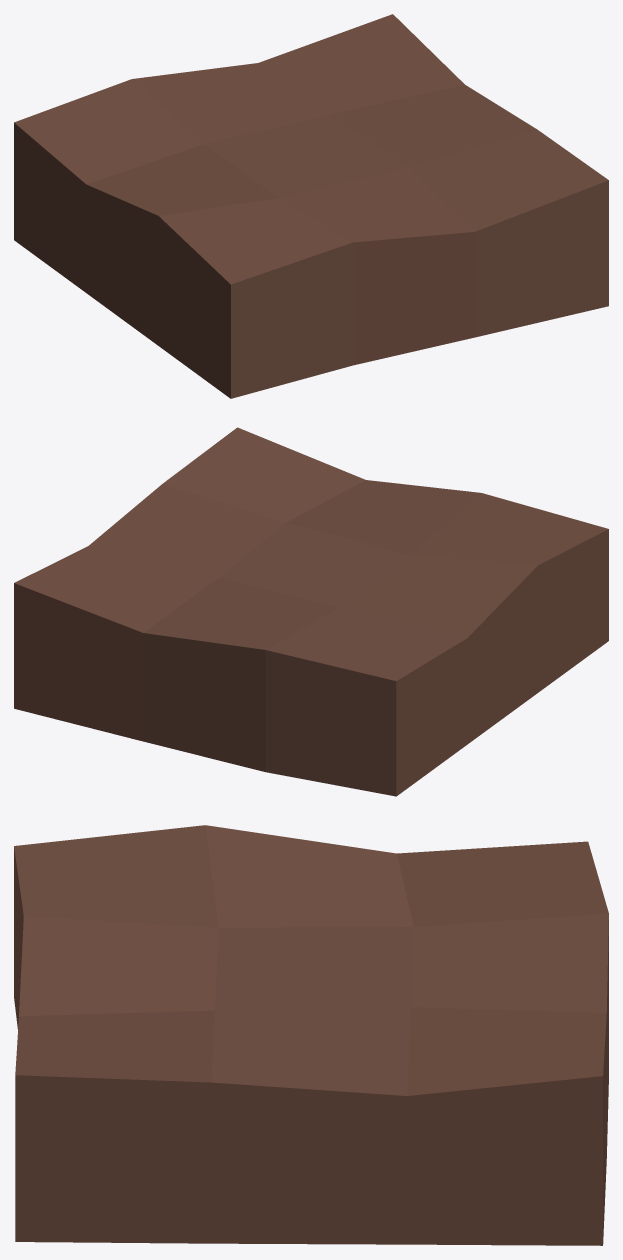
File: dirtcube.fbx
3 renders of one model, top to bottom at view 1: azimuth 30°, elevation 25°; view 2: azimuth 150°, elevation 25°; view 3: azimuth 270°, elevation 25°, orthographic. The views are drawn at different scales.
Visible parts, largest first — view 1: dirtcube; view 2: dirtcube; view 3: dirtcube.
Part boxes in pixels (left/top/right/bottom): dirtcube: left=14, top=14, right=608, bottom=398; dirtcube: left=14, top=427, right=608, bottom=796; dirtcube: left=14, top=825, right=608, bottom=1245.
Bounding box in the file's own units: 90.87 × 29.38 × 91.97.
